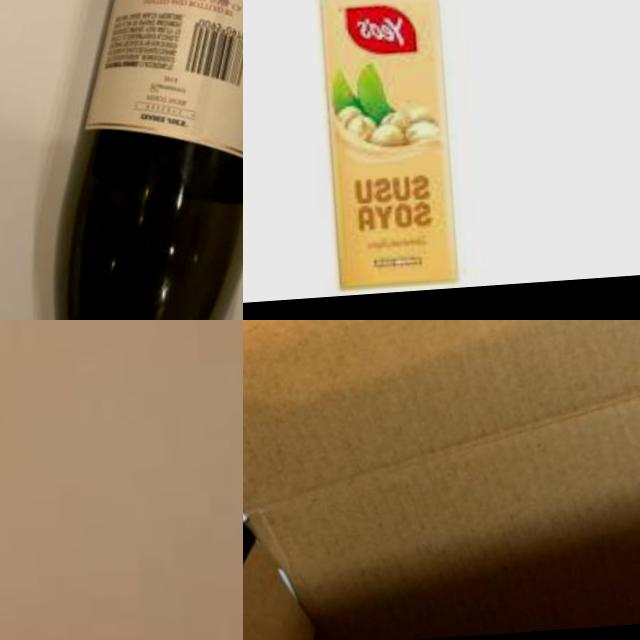caixinha: (315, 0, 458, 290)
garrafa de vidro: (26, 0, 243, 320)
garrafa plástica: (0, 320, 243, 640)
papelão: (243, 320, 640, 640)
